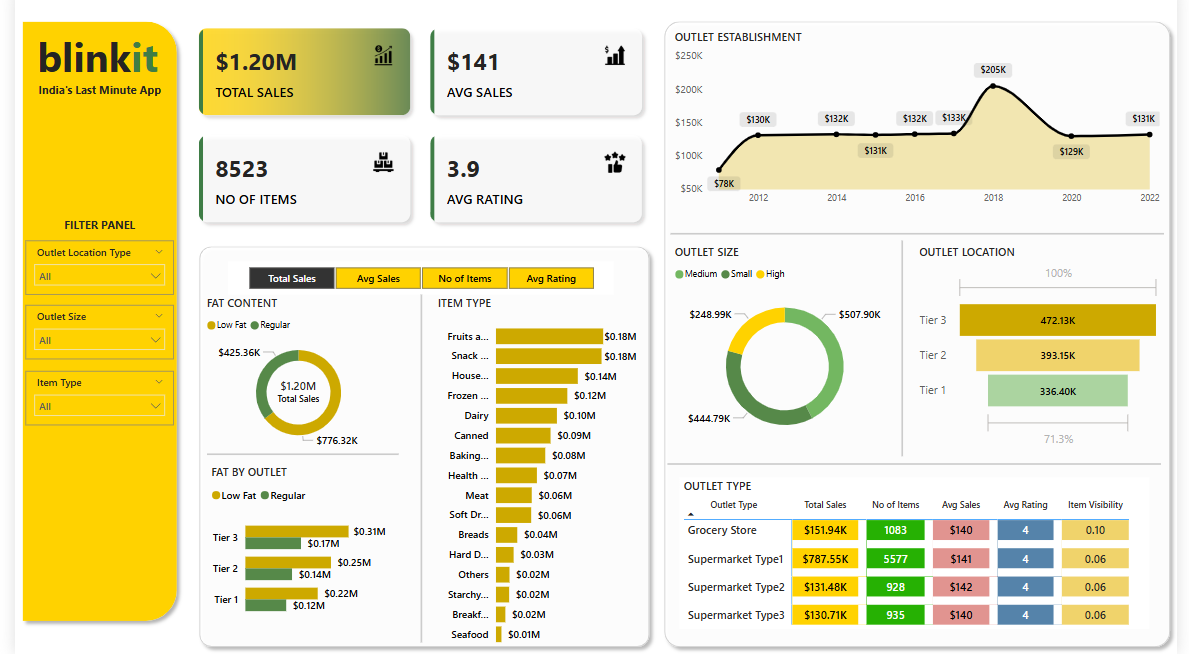

Layout of this report page (visuals, bound fields, positions):
{"tool":"powerbi","page":{"name":"Page 1","canvas":[1400,800],"ordinal":0},"visuals":[{"type":"shape","box":[0,28.9,204.2,741],"z":0},{"type":"textbox","box":[21.7,41.6,182.5,81.3],"z":1000},{"type":"textbox","box":[12.7,104.8,178.9,36.1],"z":2000},{"type":"cardVisual","fields":{"Data":["BlinkIT Grocery Data.Total Sales","BlinkIT Grocery Data.Avg Sales","BlinkIT Grocery Data.No of Items","BlinkIT Grocery Data.Avg Rating"]},"box":[204.2,28.9,569.3,269.3],"z":3000},{"type":"shape","box":[213.3,300,560.3,500.6],"z":4000},{"type":"donutChart","title":"FAT CONTENT","fields":{"Y":["BlinkIT Grocery Data.Total Sales"],"Category":["BlinkIT Grocery Data.Item Fat Content"]},"box":[225.9,366.9,231.3,191.6],"z":5000},{"type":"slicer","fields":{"Values":["Metrics.Metrics"]},"box":[256.6,327.1,464.5,39.8],"z":6000},{"type":"cardVisual","fields":{"Data":["BlinkIT Grocery Data.Total Sales"]},"box":[292.8,450,97.6,63.3],"z":7000},{"type":"clusteredBarChart","title":"FAT BY OUTLET","fields":{"Y":["BlinkIT Grocery Data.Total Sales"],"Category":["BlinkIT Grocery Data.Outlet Location Type"],"Series":["BlinkIT Grocery Data.Item Fat Content"]},"box":[231.3,571.1,220.5,198.8],"z":8000},{"type":"shape","box":[231.3,544,231.3,30.7],"z":8001},{"type":"shape","box":[475.3,366.9,28.9,419.3],"z":8002},{"type":"barChart","title":"ITEM TYPE","fields":{"Category":["BlinkIT Grocery Data.Item Type"],"Y":["BlinkIT Grocery Data.Total Sales"]},"box":[504.2,366.9,249.4,433.7],"z":8003},{"type":"shape","box":[773.5,28.9,627.1,771.7],"z":8004},{"type":"lineChart","title":"OUTLET ESTABLISHMENT","fields":{"Y":["BlinkIT Grocery Data.Total Sales"],"Category":["BlinkIT Grocery Data.Outlet Establishment Year"]},"box":[789.8,47,594.6,220.5],"z":8005},{"type":"shape","box":[789.8,287.4,594.6,12.7],"z":8006},{"type":"donutChart","title":"OUTLET SIZE","fields":{"Y":["BlinkIT Grocery Data.Total Sales"],"Category":["BlinkIT Grocery Data.Outlet Size"]},"box":[789.8,305.4,274.7,251.2],"z":8007},{"type":"shape","box":[1050,301.8,38,260.2],"z":8008},{"type":"funnel","title":"OUTLET LOCATION","fields":{"Y":["Sum(BlinkIT Grocery Data.Sales)"],"Category":["BlinkIT Grocery Data.Outlet Location Type"]},"box":[1084.4,305.4,300,251.2],"z":8009},{"type":"shape","box":[786.2,558.4,594.6,25.3],"z":8010},{"type":"pivotTable","title":"OUTLET TYPE","fields":{"Rows":["BlinkIT Grocery Data.Outlet Type"],"Values":["BlinkIT Grocery Data.Total Sales","BlinkIT Grocery Data.No of Items","BlinkIT Grocery Data.Avg Sales","BlinkIT Grocery Data.Avg Rating","Avg(BlinkIT Grocery Data.Item Visibility)"]},"box":[800.6,587.4,565.7,182.5],"z":8011},{"type":"slicer","fields":{"Values":["BlinkIT Grocery Data.Outlet Location Type"]},"box":[12.7,301.8,178.9,65.1],"z":8012},{"type":"slicer","fields":{"Values":["BlinkIT Grocery Data.Outlet Size"]},"box":[12.7,379.5,178.9,65.1],"z":8013},{"type":"slicer","fields":{"Values":["BlinkIT Grocery Data.Item Type"]},"box":[12.7,459,178.9,65.1],"z":8014},{"type":"textbox","box":[36.1,267.5,131.9,38],"z":8015}]}

Visuals, with their boxes on the page's 1400x800 design canvas (x1, y1, x2, y2). These are canvas units, not pixel positions in the 1189x654 screenshot, which may show the page scaled, cropped or inside an application window:
shape: bbox=[0, 29, 204, 770]
textbox: bbox=[22, 42, 204, 123]
textbox: bbox=[13, 105, 192, 141]
cardVisual - BlinkIT Grocery Data.Total Sales x BlinkIT Grocery Data.Avg Sales: bbox=[204, 29, 774, 298]
shape: bbox=[213, 300, 774, 801]
"FAT CONTENT" donutChart: bbox=[226, 367, 457, 558]
slicer - Metrics.Metrics: bbox=[257, 327, 721, 367]
cardVisual - BlinkIT Grocery Data.Total Sales: bbox=[293, 450, 390, 513]
"FAT BY OUTLET" clusteredBarChart: bbox=[231, 571, 452, 770]
shape: bbox=[231, 544, 463, 575]
shape: bbox=[475, 367, 504, 786]
"ITEM TYPE" barChart: bbox=[504, 367, 754, 801]
shape: bbox=[774, 29, 1401, 801]
"OUTLET ESTABLISHMENT" lineChart: bbox=[790, 47, 1384, 268]
shape: bbox=[790, 287, 1384, 300]
"OUTLET SIZE" donutChart: bbox=[790, 305, 1064, 557]
shape: bbox=[1050, 302, 1088, 562]
"OUTLET LOCATION" funnel: bbox=[1084, 305, 1384, 557]
shape: bbox=[786, 558, 1381, 584]
"OUTLET TYPE" pivotTable: bbox=[801, 587, 1366, 770]
slicer - BlinkIT Grocery Data.Outlet Location Type: bbox=[13, 302, 192, 367]
slicer - BlinkIT Grocery Data.Outlet Size: bbox=[13, 380, 192, 445]
slicer - BlinkIT Grocery Data.Item Type: bbox=[13, 459, 192, 524]
textbox: bbox=[36, 268, 168, 306]
